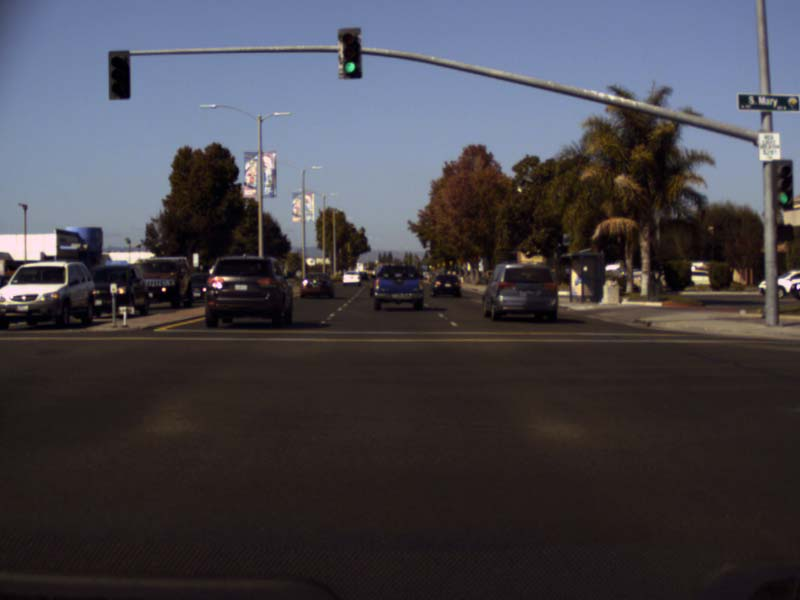Green: (339, 29, 361, 78), (773, 158, 792, 208)
